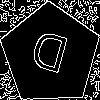D: (25, 29, 71, 84)
